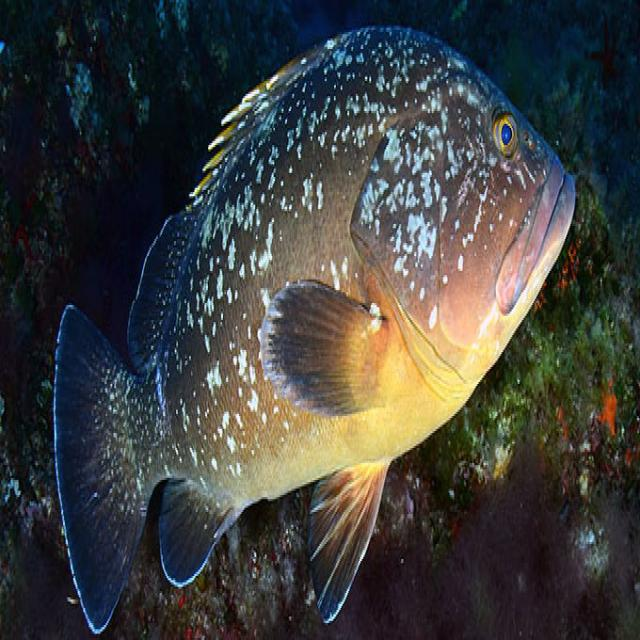Plectropomus-leopardus: (39, 17, 593, 640)
